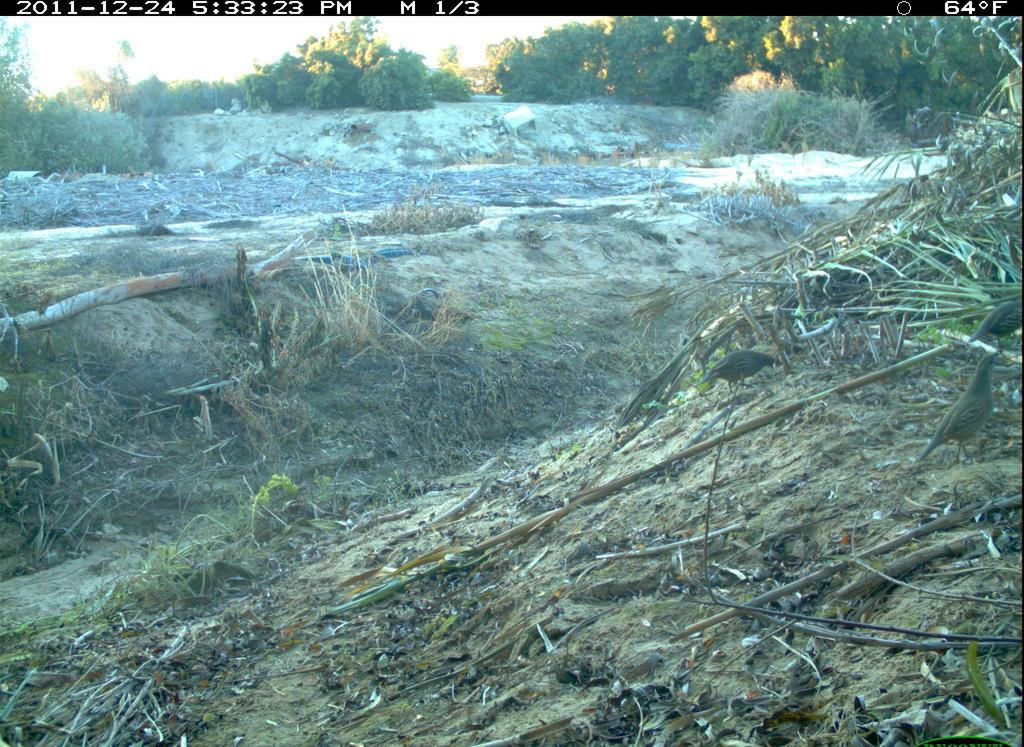bird: (914, 353, 1010, 470), (696, 324, 804, 404), (962, 290, 1023, 344)
